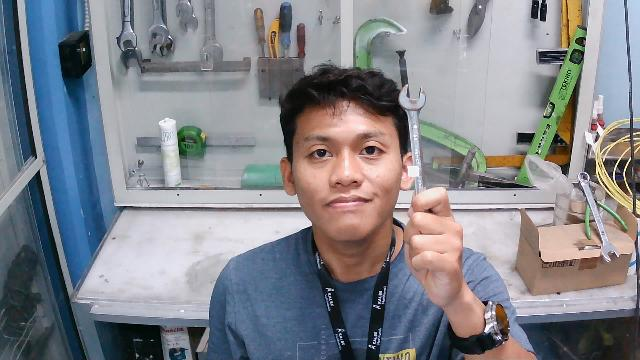kunci_pass_13: (389, 79, 442, 233)
